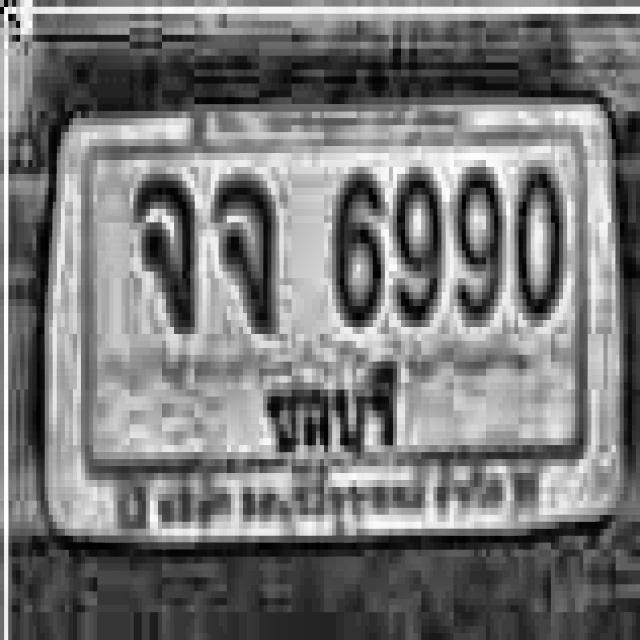license-plate: (36, 73, 631, 566)
